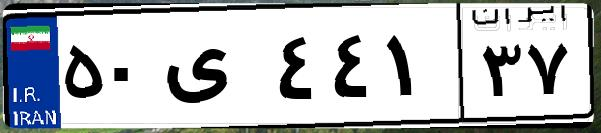0: (110, 28, 158, 98)
1: (385, 28, 445, 110)
3: (475, 38, 525, 113)
4: (270, 28, 330, 110), (330, 28, 385, 110)
5: (57, 26, 110, 100)
7: (525, 38, 570, 115)
ی: (158, 20, 270, 120)
